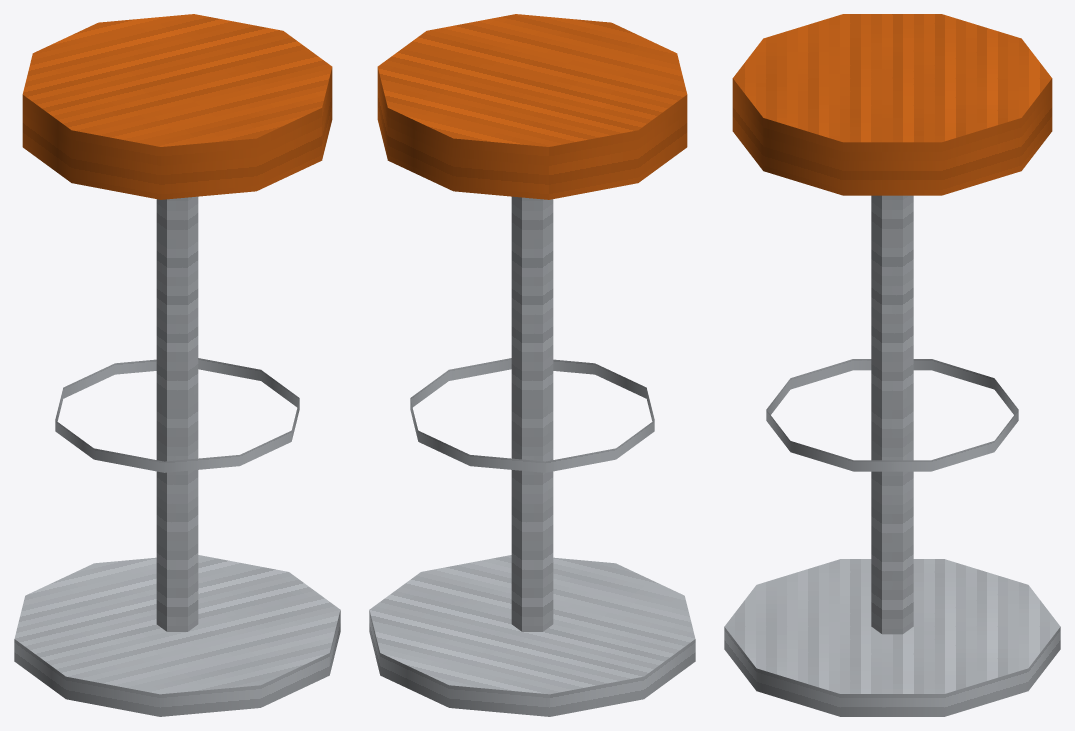
File: banqueta.glb
3 renders of one model, left to right at view 1: azimuth 30°, elevation 25°; view 2: azimuth 150°, elevation 25°; view 3: azimuth 270°, elevation 25°, orthographic.
Parts seen in each view (by area): view 1: Inteiro; view 2: Inteiro; view 3: Inteiro.
Part boxes in pixels (x1=…): Inteiro: x1=14, y1=14, x2=340, y2=716; Inteiro: x1=369, y1=14, x2=695, y2=716; Inteiro: x1=724, y1=14, x2=1060, y2=716.
Bounding box in the file's own units: 0.3804 × 0.75 × 0.4.
Materials: 1 (1 with a texture image).
